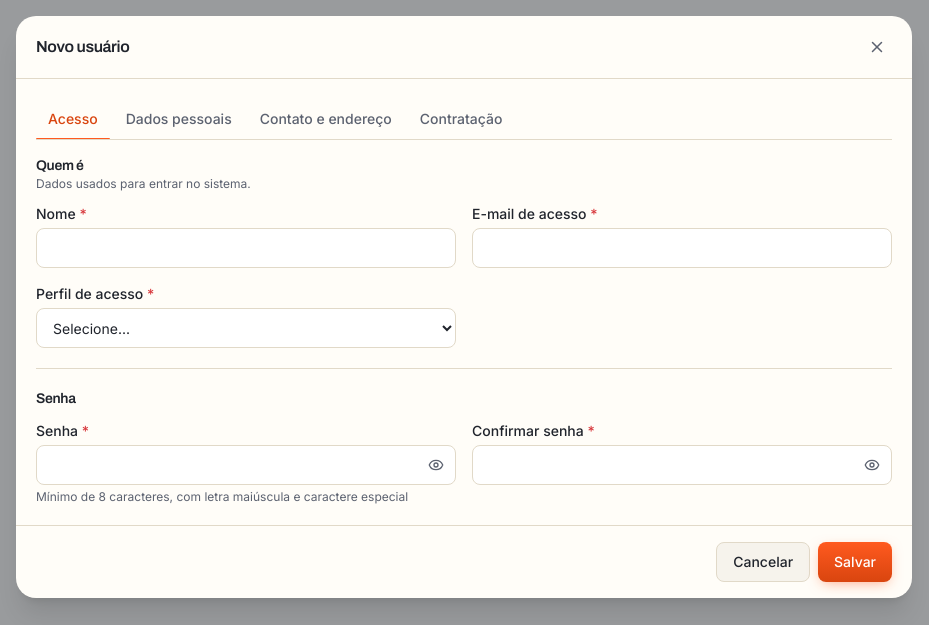
Test: UsuarioFormModal › rejects a confirmation that does not match the password
Type "Fernanda" into the field labelled "Nome *" at (246, 248), box [36,228,456,268]
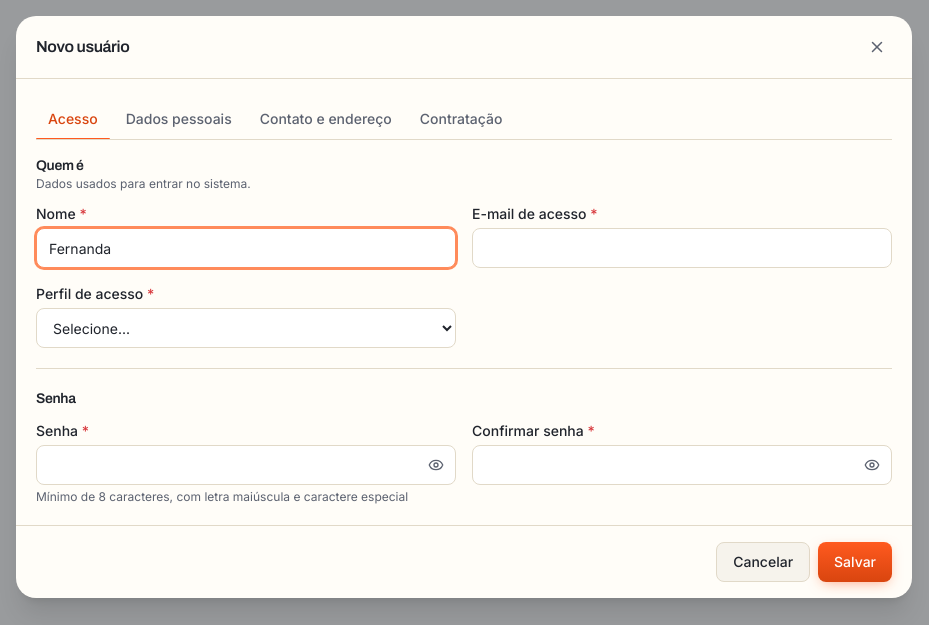
Type "fernanda@ramtec.com.br" into the field labelled "E-mail de acesso *" at (682, 248), box [472,228,892,268]
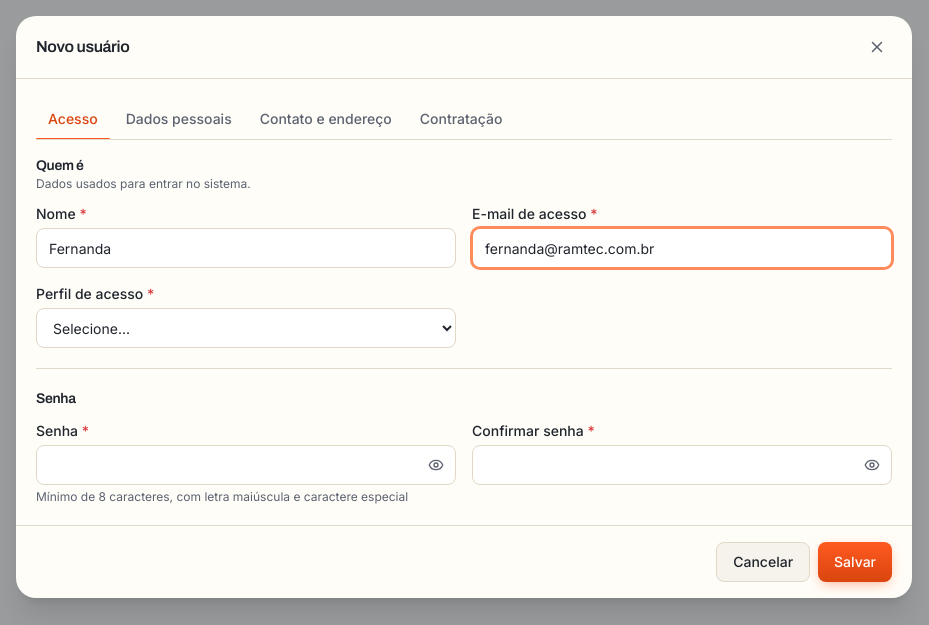
Select "Administrador" in the dropdown labelled "Perfil de acesso *" at (246, 328), box [36,308,456,348]
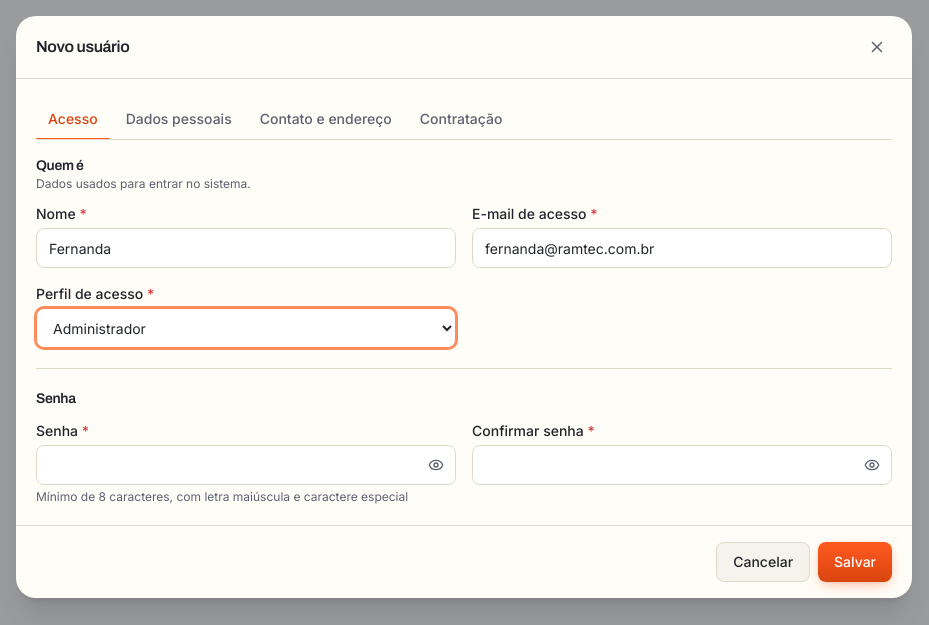
Type "Senha@123" into the password field labelled "Senha *" at (246, 465), box [36,445,456,485]
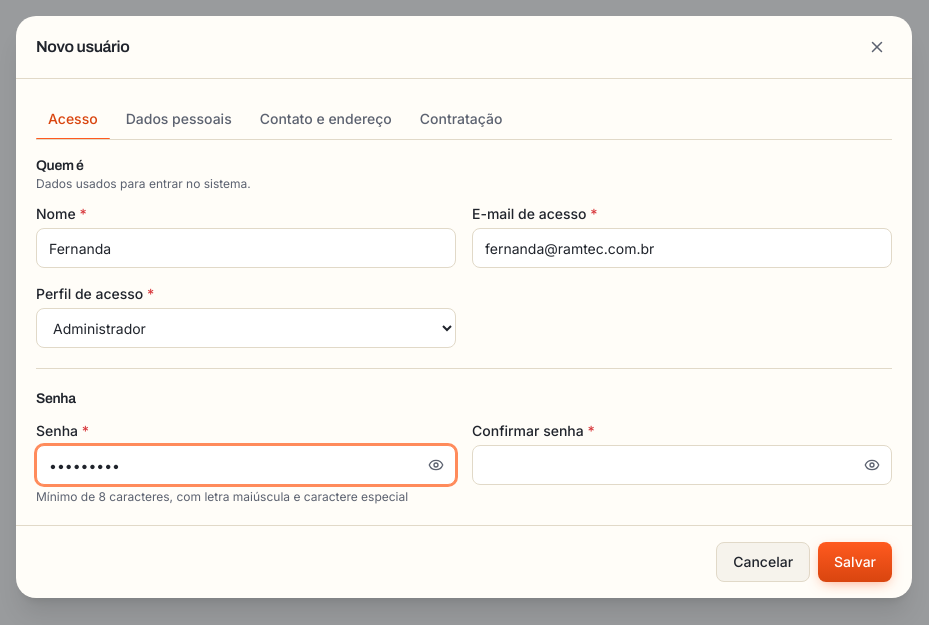
Type "Senha@124" into the password field labelled "Confirmar senha *" at (682, 465), box [472,445,892,485]
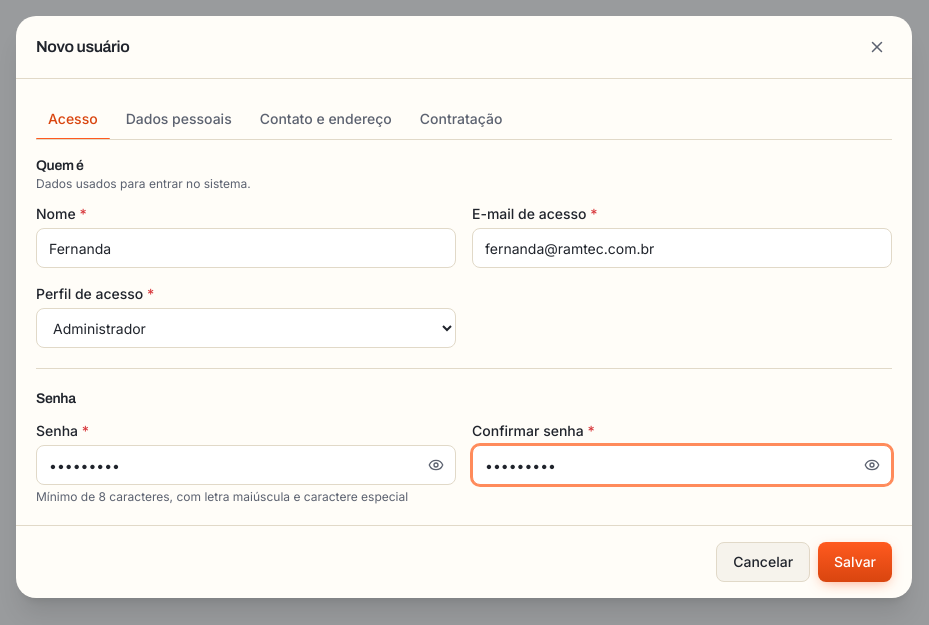
Click the button "Salvar" at (855, 562), box [818,542,892,582]
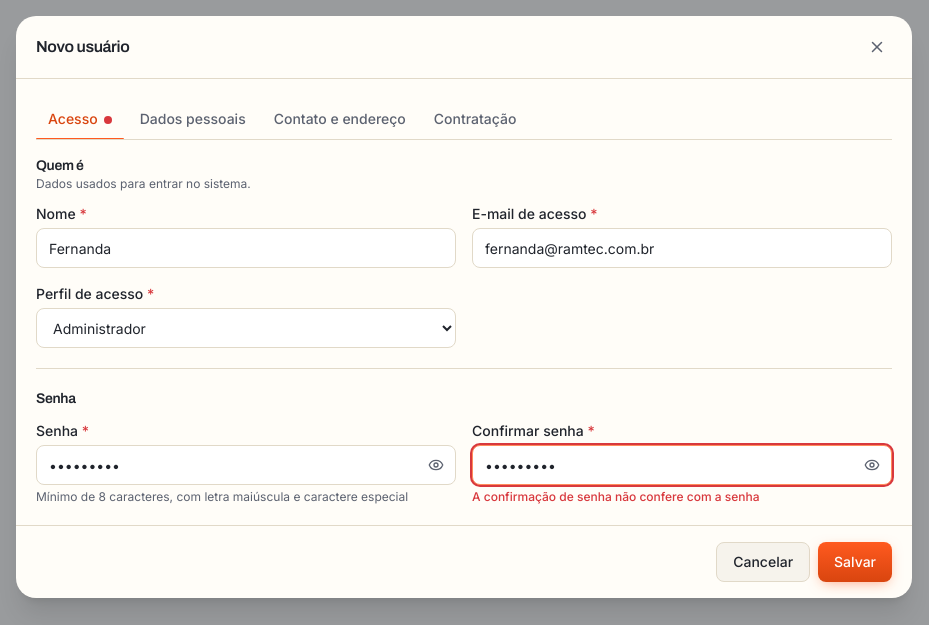
Now the text "A confirmação de senha não confere com a senha" is shown, box [472,489,760,504]
